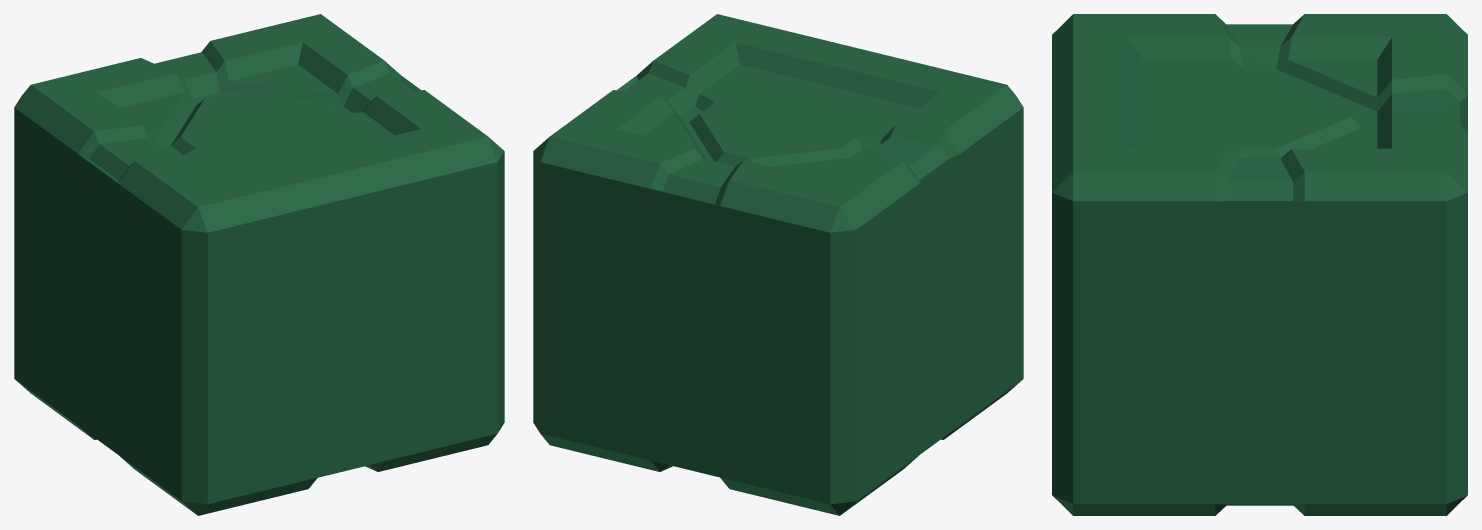
3 renders of one model, left to right at view 1: azimuth 30°, elevation 25°; view 2: azimuth 150°, elevation 25°; view 3: azimuth 270°, elevation 25°, orthographic. The views are drawn at different scales.
Parts seen in each view (by area): view 1: 002_Cube_007; view 2: 002_Cube_007; view 3: 002_Cube_007.
Boxes of the visible parts, x1,y1,x2,y2 form: 002_Cube_007: (14, 14, 504, 515); 002_Cube_007: (533, 14, 1023, 515); 002_Cube_007: (1052, 14, 1467, 515).
Size of the model in its own units: 29.14 by 26.61 by 29.14.
